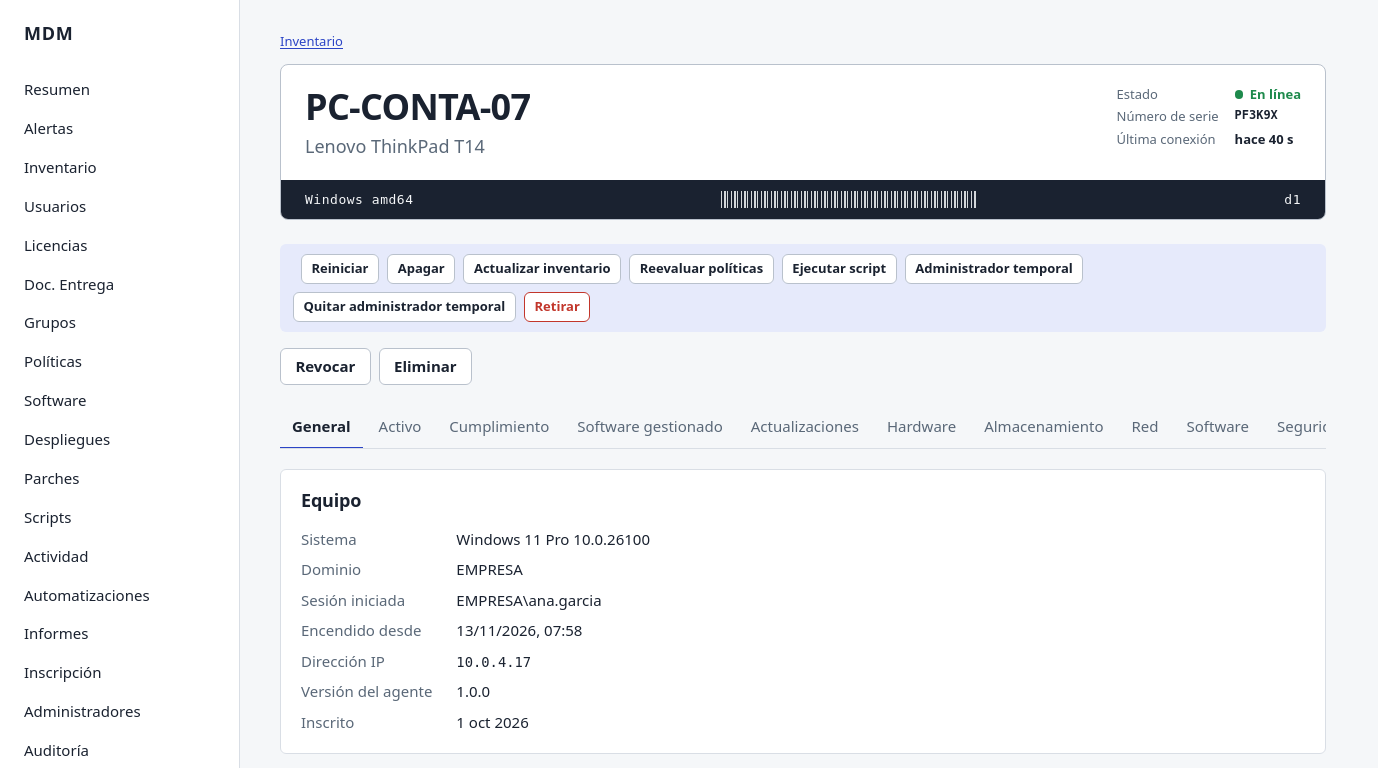
Test: Ficha de dispositivo › la pestaña Software filtra por nombre y pagina
This screenshot has width=1378, height=768.
Click the tab "Software": (1218, 427) [1174,405,1261,449]
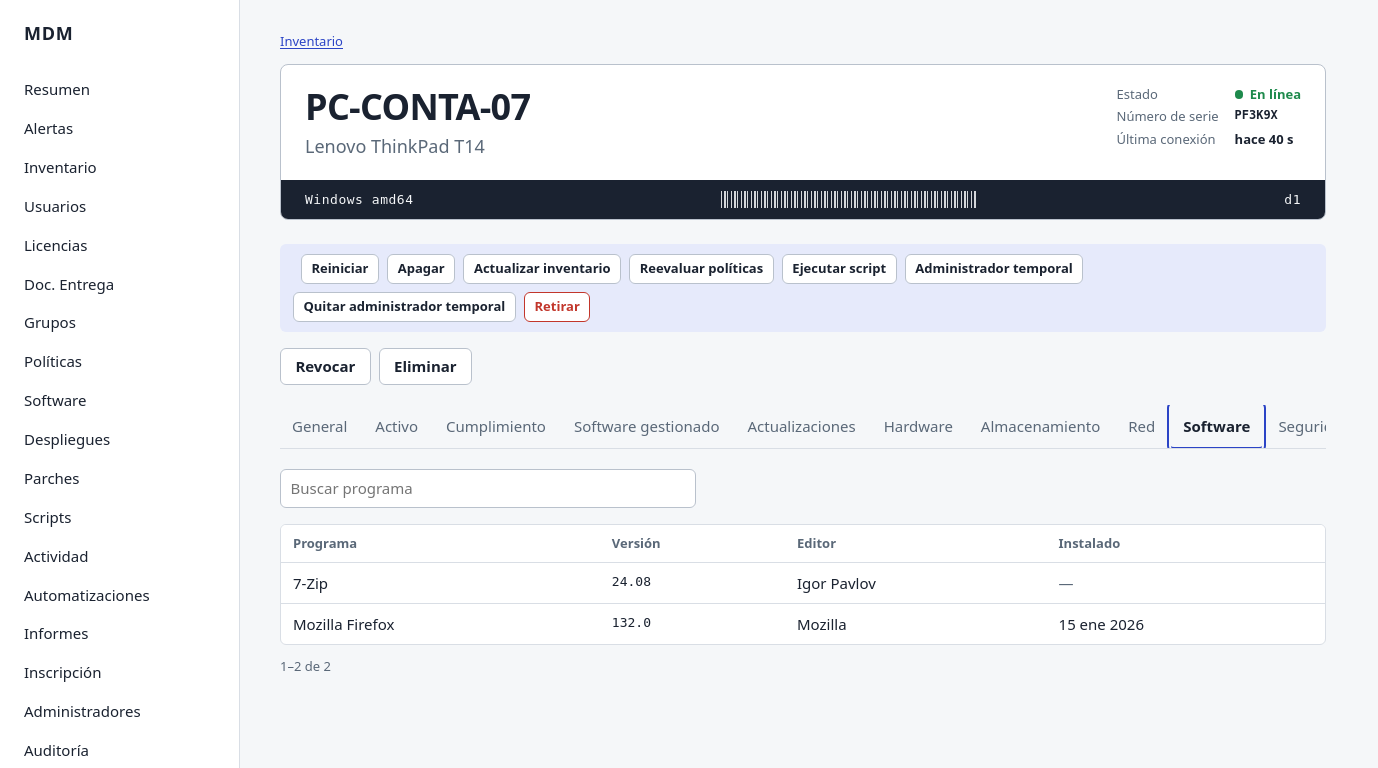
Now the text "Mozilla Firefox" is shown, box [281,604,600,644]
In the search field labelled "Buscar programa": (488, 488) [280,469,696,508], type "fire"
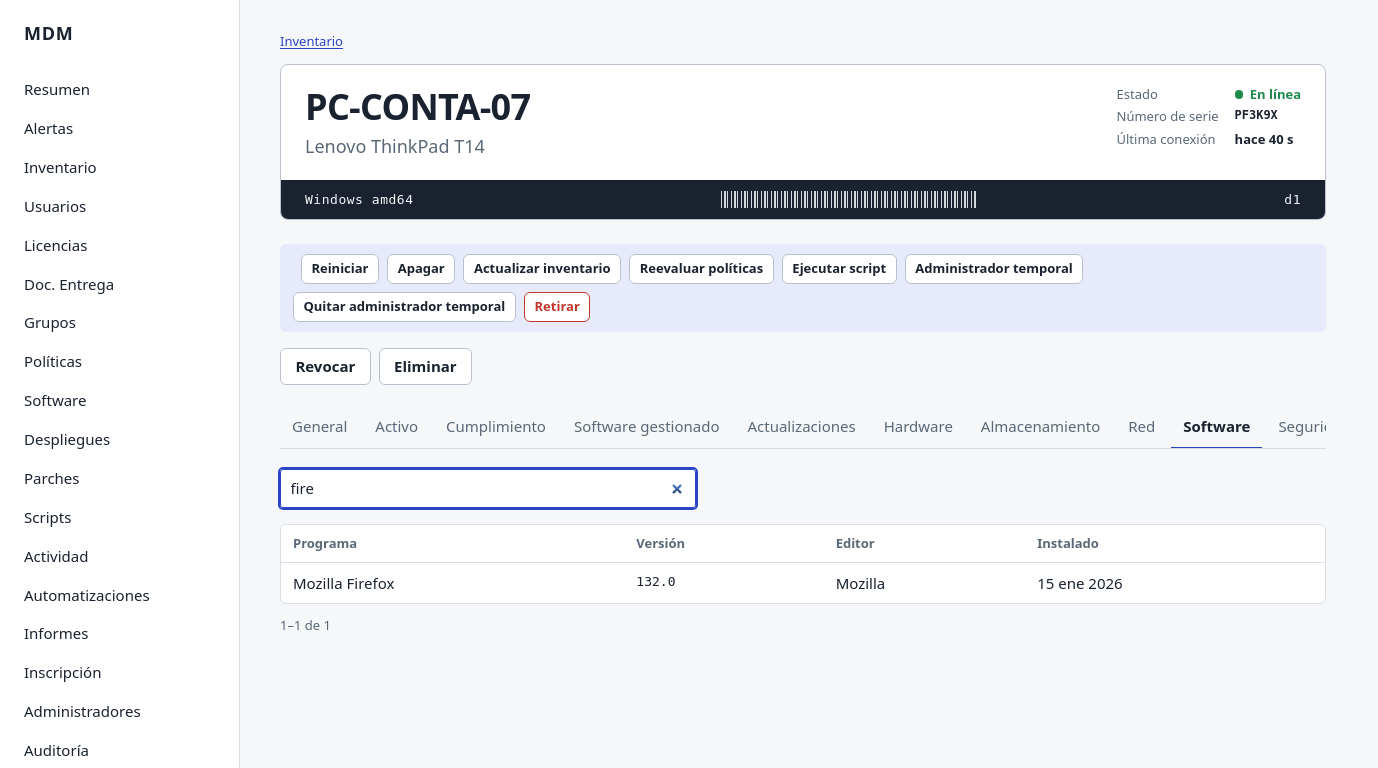
Now the text "7-Zip" is gone
